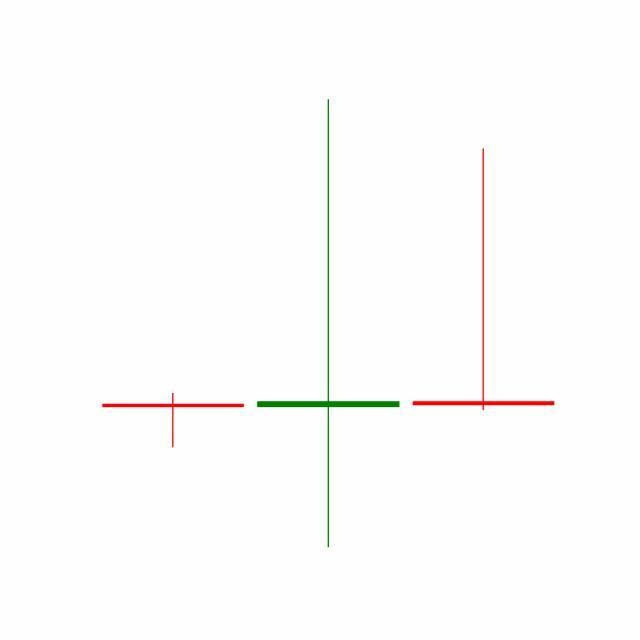Gravestone Doji: (406, 146, 562, 414)
